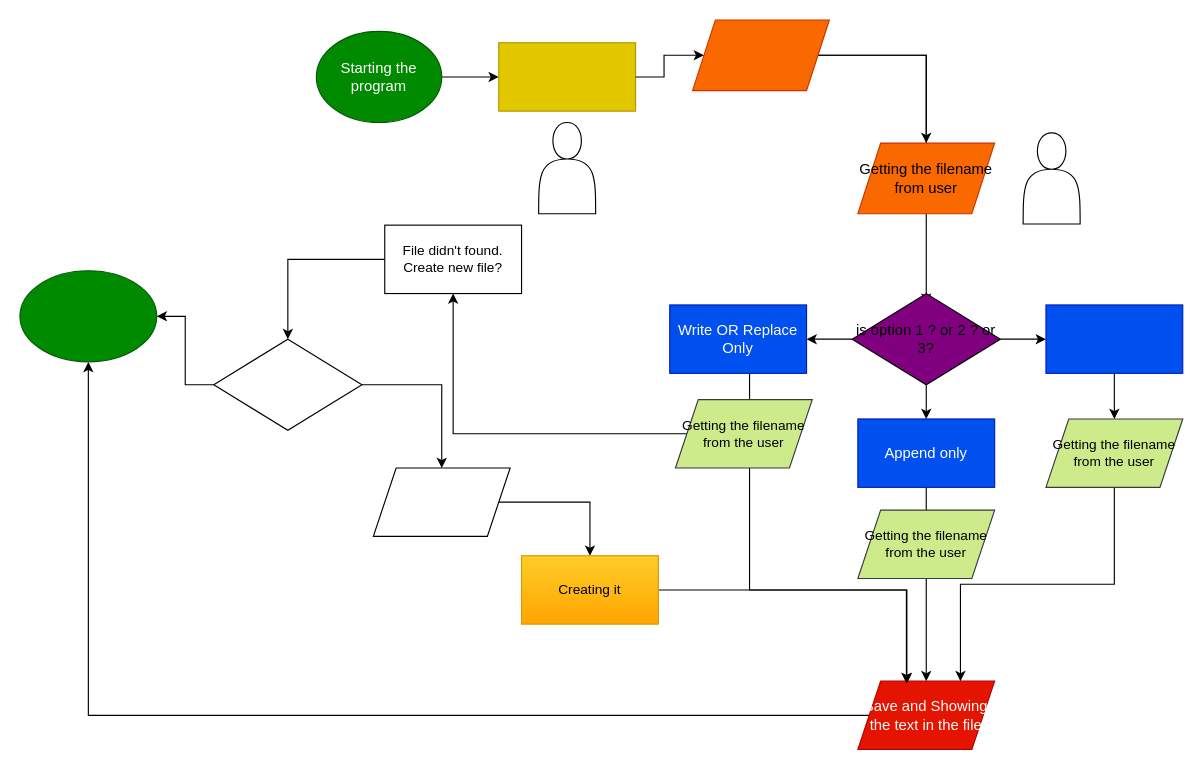
Some shapes in this 1203 by 770 pixel diagram are drawn without their labels. The centre of each missing label's shape, as x and y in pixels:
"Asks user for getting an option" goes at pixel 567 76.
"End" goes at pixel 88 316.
"Getting new file's name" goes at pixel 441 501.
"Getting the option input's number" goes at pixel 760 55.
"No / Yes" goes at pixel 287 384.
"Read Only" goes at pixel 1114 338.
